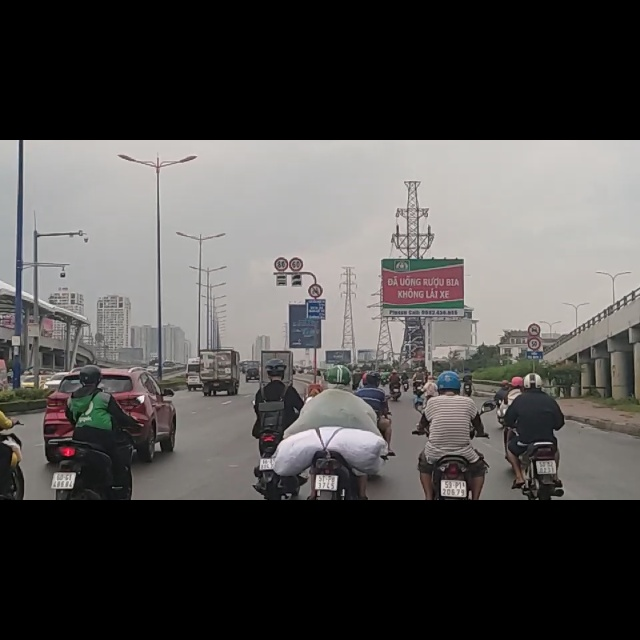bien_cam: (306, 256, 324, 280), (289, 207, 303, 233), (274, 207, 288, 232), (528, 326, 541, 350), (528, 352, 542, 373)
